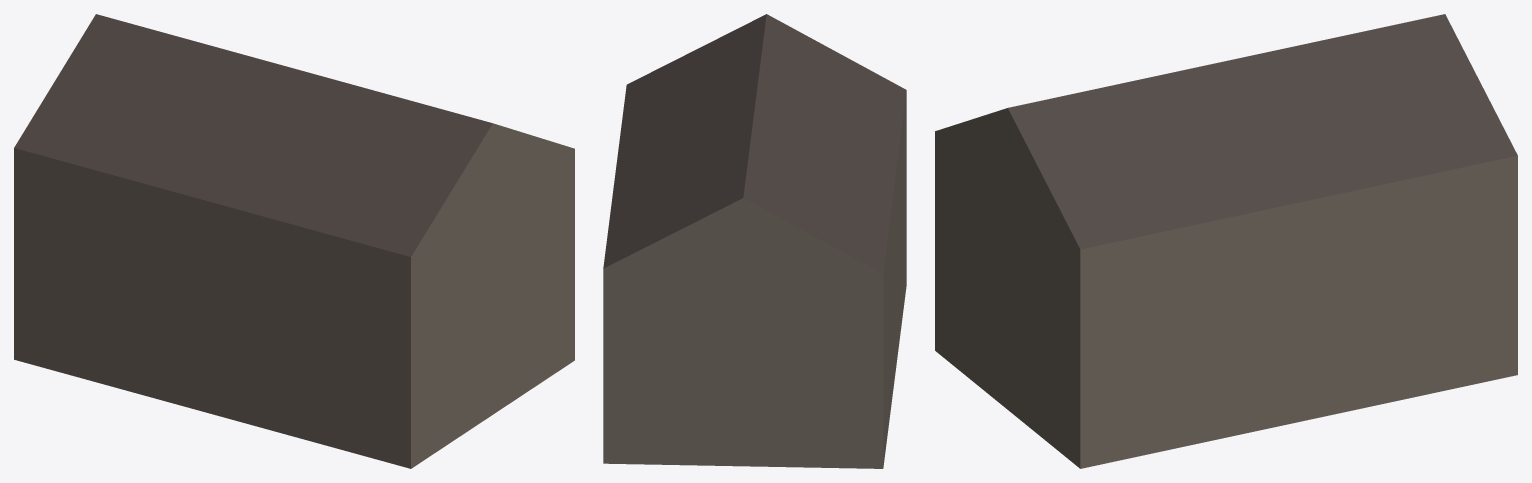
3 views of the same model, side by side, from view 1: azimuth 30°, elevation 25°; view 2: azimuth 150°, elevation 25°; view 3: azimuth 270°, elevation 25° (orthographic). The views are drawn at different scales.
Visible parts, largest first — view 1: HP-w293414327; view 2: HP-w293414327; view 3: HP-w293414327.
Part boxes in pixels (x1,y1,x2,y2): HP-w293414327: [14, 14, 574, 468]; HP-w293414327: [603, 14, 906, 468]; HP-w293414327: [935, 14, 1517, 468].
Size of the model in its own units: 12.44 by 8.26 by 14.45.
